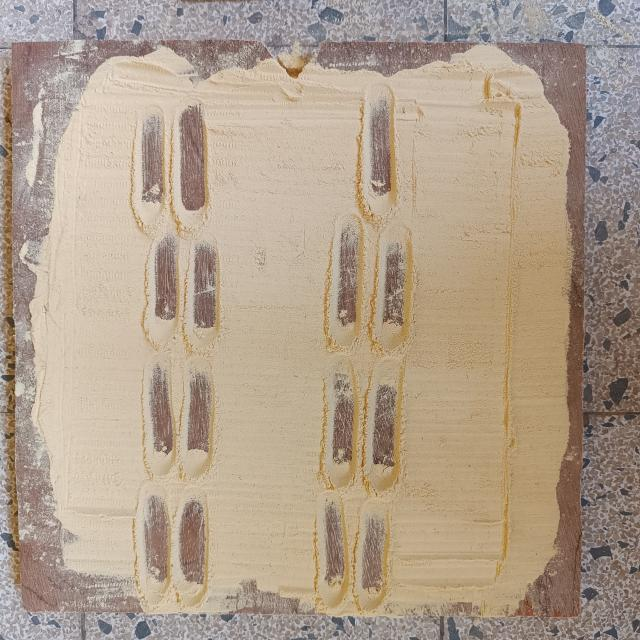double: (316, 220, 418, 360), (316, 360, 408, 500), (125, 96, 216, 237), (128, 472, 214, 620), (137, 232, 230, 358), (136, 350, 222, 486), (309, 496, 398, 618)
single: (356, 79, 406, 226)
